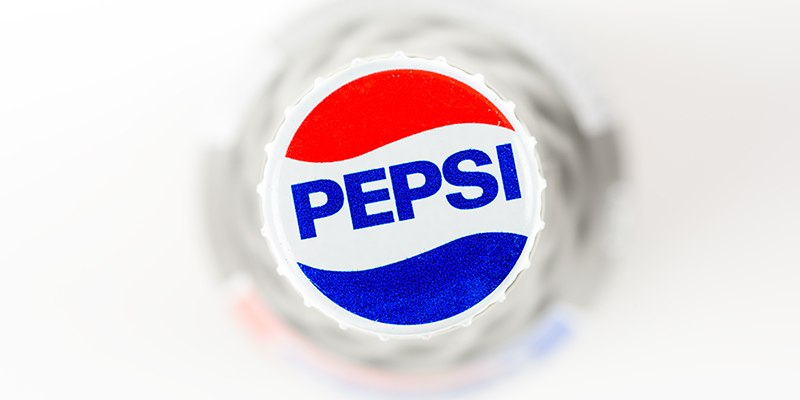pepsi: (278, 71, 526, 325)
